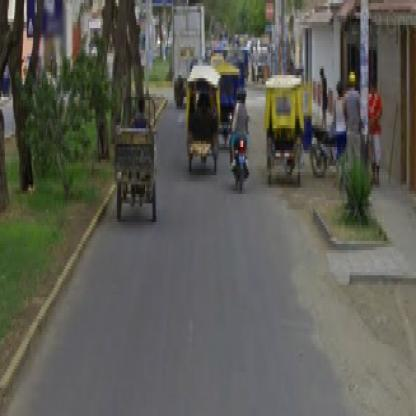Moto: (230, 92, 250, 195)
Peaton: (337, 79, 350, 189)
Pista: (10, 60, 388, 404)
Vehiculo: (115, 98, 159, 226), (266, 73, 304, 189), (187, 67, 220, 179)
